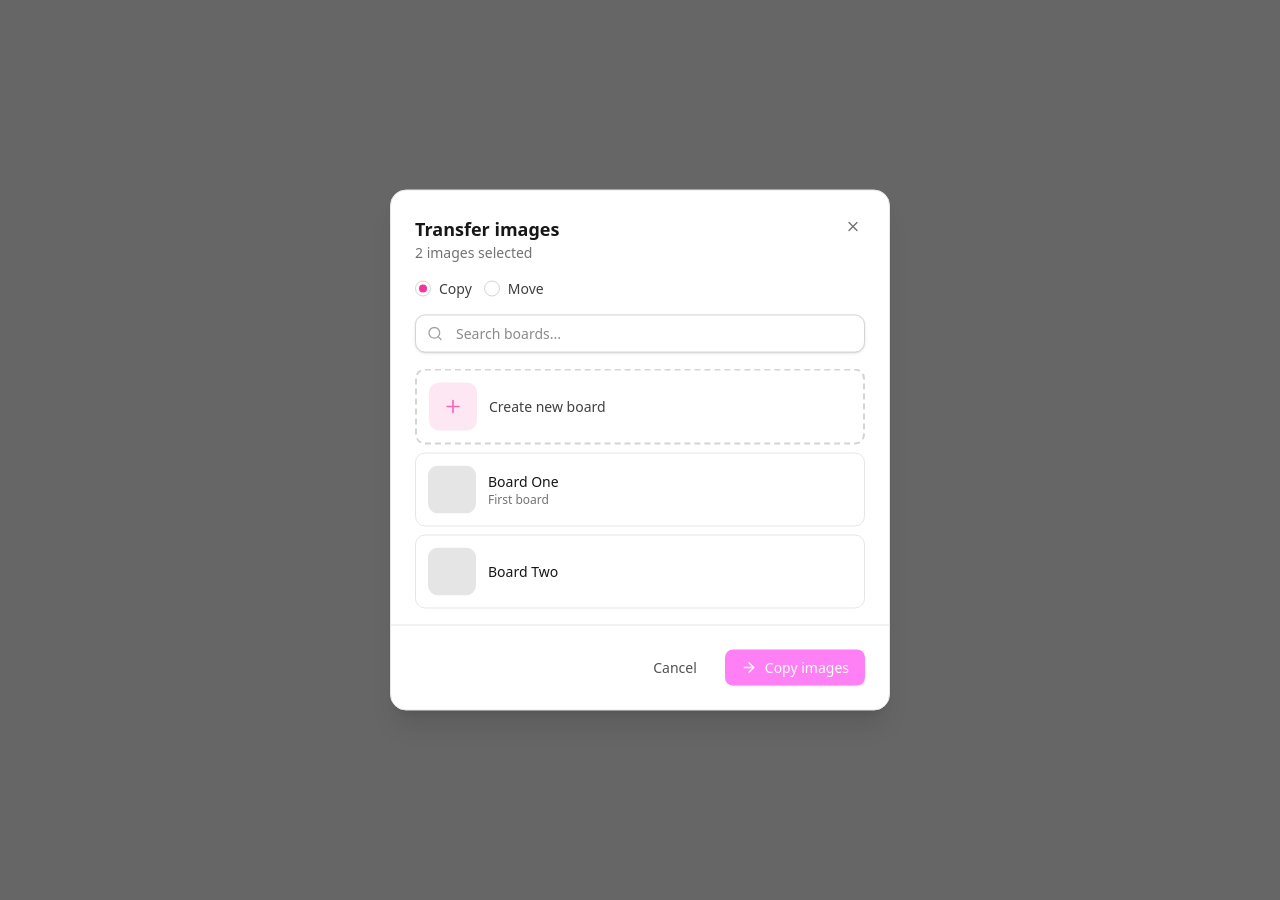
TransferImagesDialog › filters boards based on search query
The width and height of the screenshot is (1280, 900).
Check: the text "Board One" is shown, box left=488, top=472, right=559, bottom=490
Type "Two" into the field with placeholder "Search boards..." at {"x": 640, "y": 334}, box left=415, top=314, right=865, bottom=352
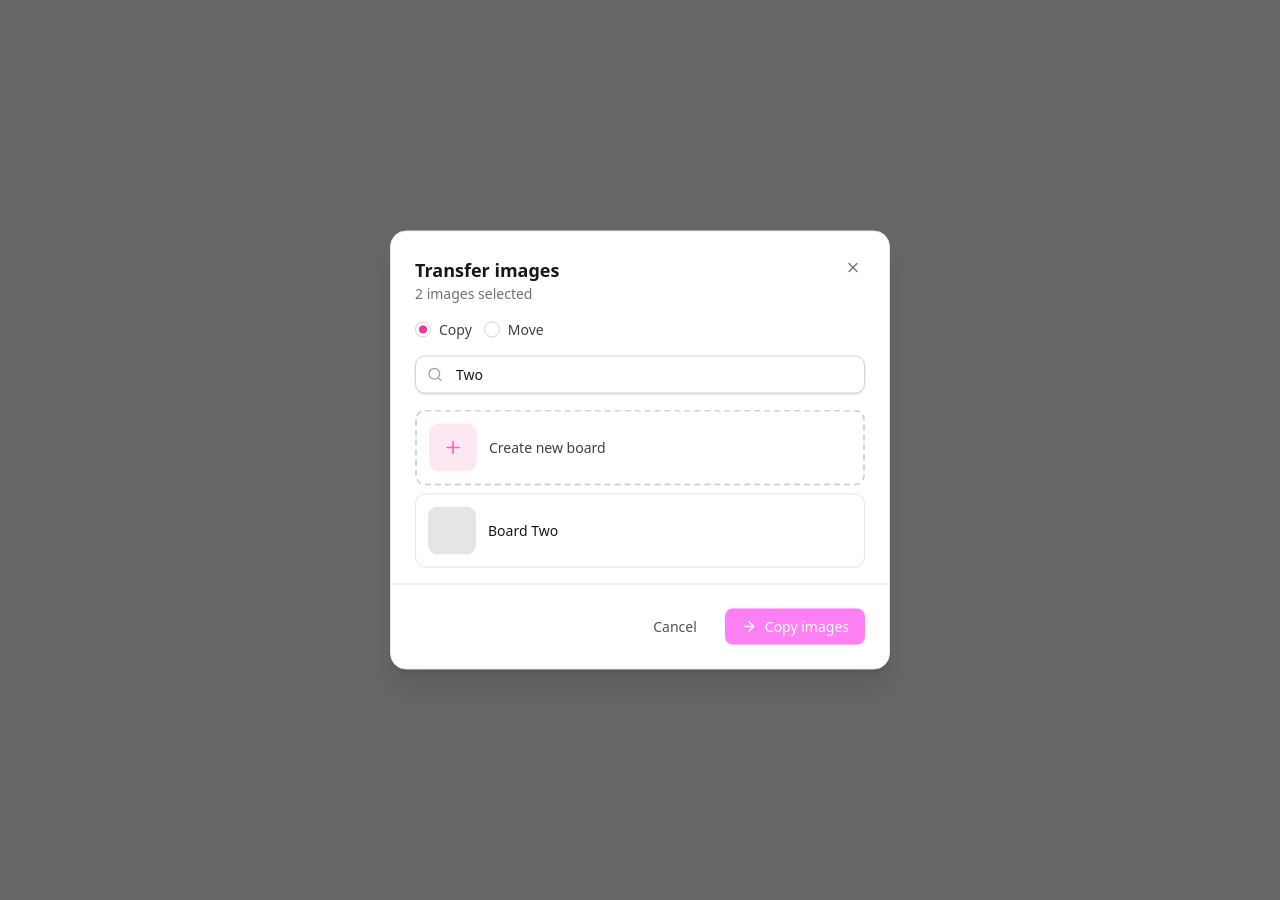
Check: the text "Board Two" is shown, box left=488, top=520, right=558, bottom=540
Check: the button "Board One" is gone
